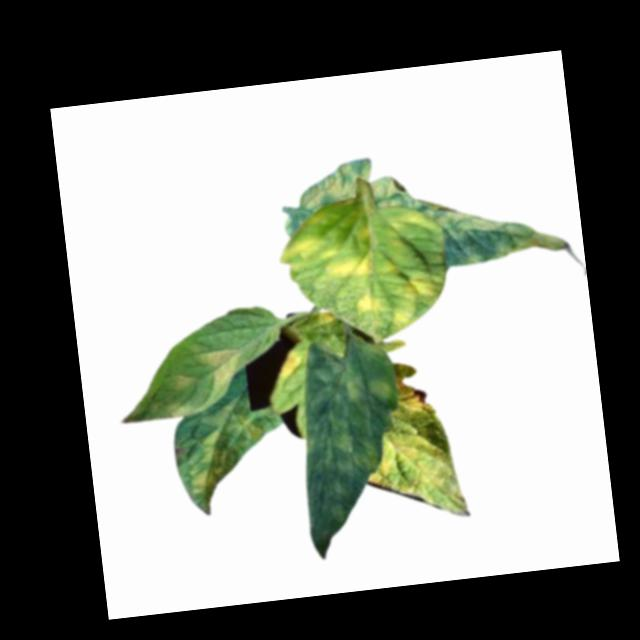Leaf_Mold: (275, 193, 454, 348), (289, 341, 410, 558), (362, 422, 472, 528), (439, 188, 578, 268), (182, 398, 274, 506), (293, 157, 377, 215), (395, 374, 436, 418), (205, 347, 242, 386), (274, 346, 305, 381), (169, 372, 201, 393)
